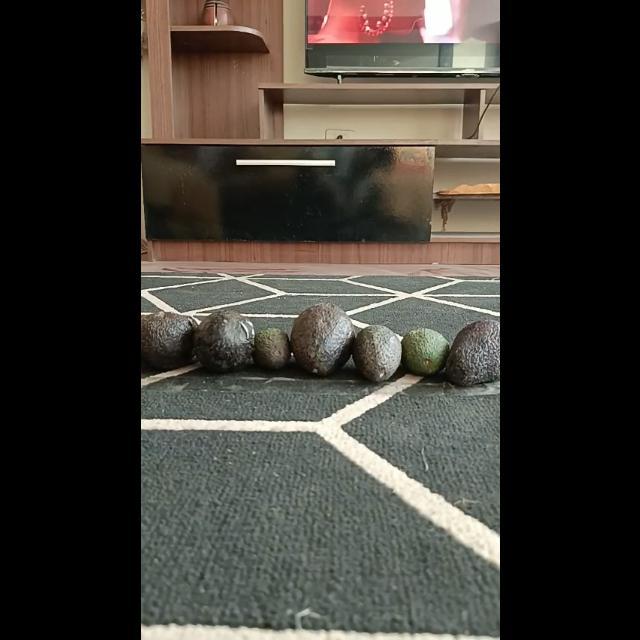Primera: (290, 303, 354, 375), (192, 310, 256, 372), (444, 319, 498, 386), (140, 311, 197, 371)
Segunda: (352, 324, 402, 382), (400, 328, 450, 376)
Tercera: (252, 328, 288, 370)
